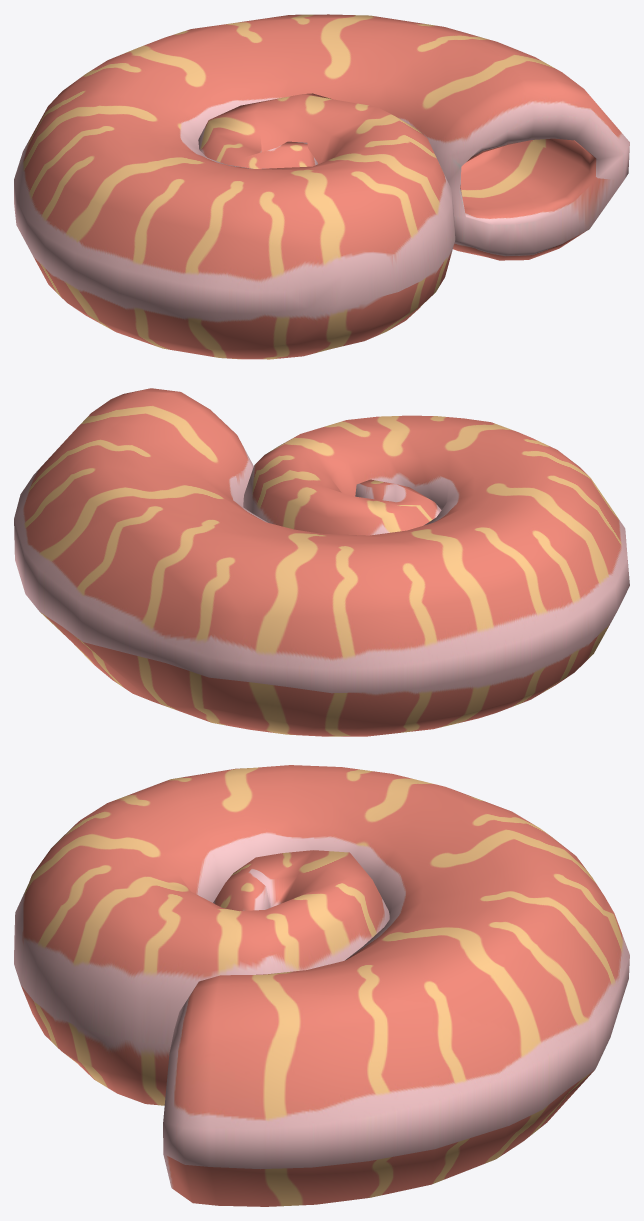
File: Curvy_Shell_1.fbx
3 views of the same model, one above another, from view 1: azimuth 30°, elevation 25°; view 2: azimuth 150°, elevation 25°; view 3: azimuth 270°, elevation 25° (orthographic). The views are drawn at different scales.
Visible parts, largest first — view 1: Curvy_Shell; view 2: Curvy_Shell; view 3: Curvy_Shell.
Part boxes in pixels (x1,y1,x2,y2): Curvy_Shell: [14, 14, 629, 359]; Curvy_Shell: [14, 388, 629, 736]; Curvy_Shell: [14, 765, 629, 1206].
Size of the model in its own units: 32.99 by 10.33 by 27.05.
Materials: 1 (1 with a texture image).
